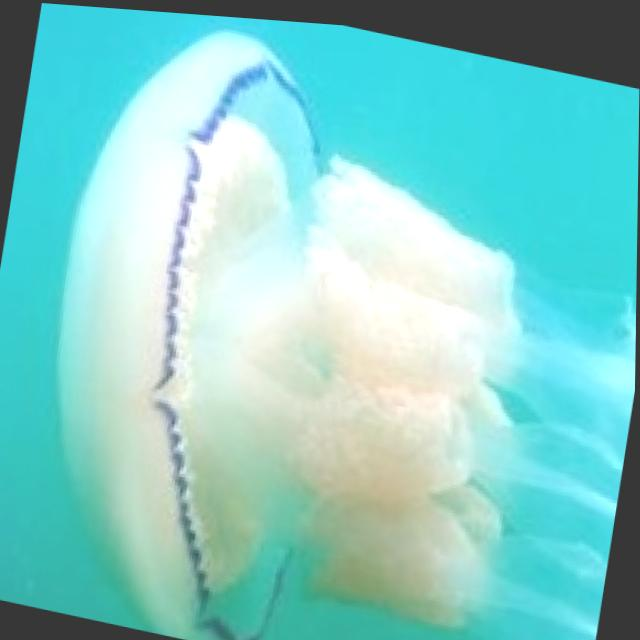Human: (10, 1, 578, 640)
